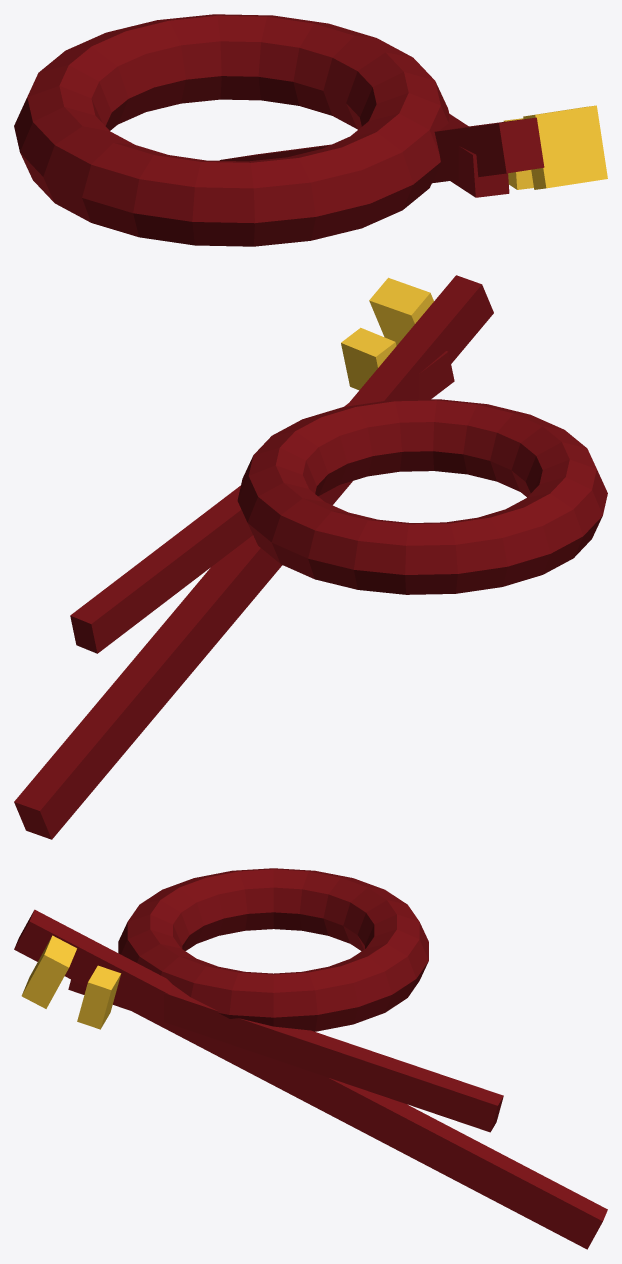
The model's file is Skin_SamuraiWaist.obj.
3 renders of one model, top to bottom at view 1: azimuth 30°, elevation 25°; view 2: azimuth 150°, elevation 25°; view 3: azimuth 270°, elevation 25°, orthographic. The views are drawn at different scales.
Parts seen in each view (by area): view 1: Skin_SamuraiWaist_BaseArmor, Skin_SamuraiWaist_TrimMetal; view 2: Skin_SamuraiWaist_BaseArmor, Skin_SamuraiWaist_TrimMetal; view 3: Skin_SamuraiWaist_BaseArmor, Skin_SamuraiWaist_TrimMetal.
Boxes of the visible parts, bbox=[...] form: Skin_SamuraiWaist_BaseArmor: bbox=[14, 14, 544, 246]; Skin_SamuraiWaist_TrimMetal: bbox=[503, 105, 607, 189]; Skin_SamuraiWaist_BaseArmor: bbox=[14, 275, 607, 839]; Skin_SamuraiWaist_TrimMetal: bbox=[341, 277, 433, 390]; Skin_SamuraiWaist_BaseArmor: bbox=[14, 868, 607, 1249]; Skin_SamuraiWaist_TrimMetal: bbox=[21, 935, 121, 1029].
Size of the model in its own units: 0.5974 by 0.508 by 0.9536.
